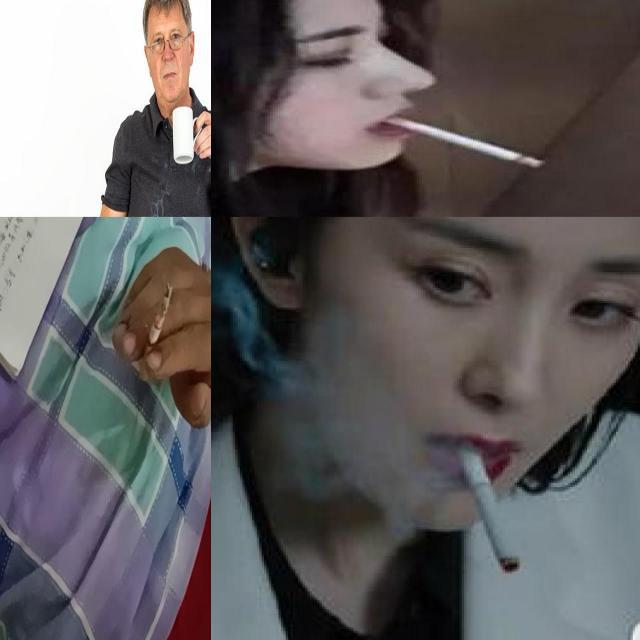cigarette: (355, 110, 563, 172), (452, 431, 522, 574), (138, 282, 174, 382)
